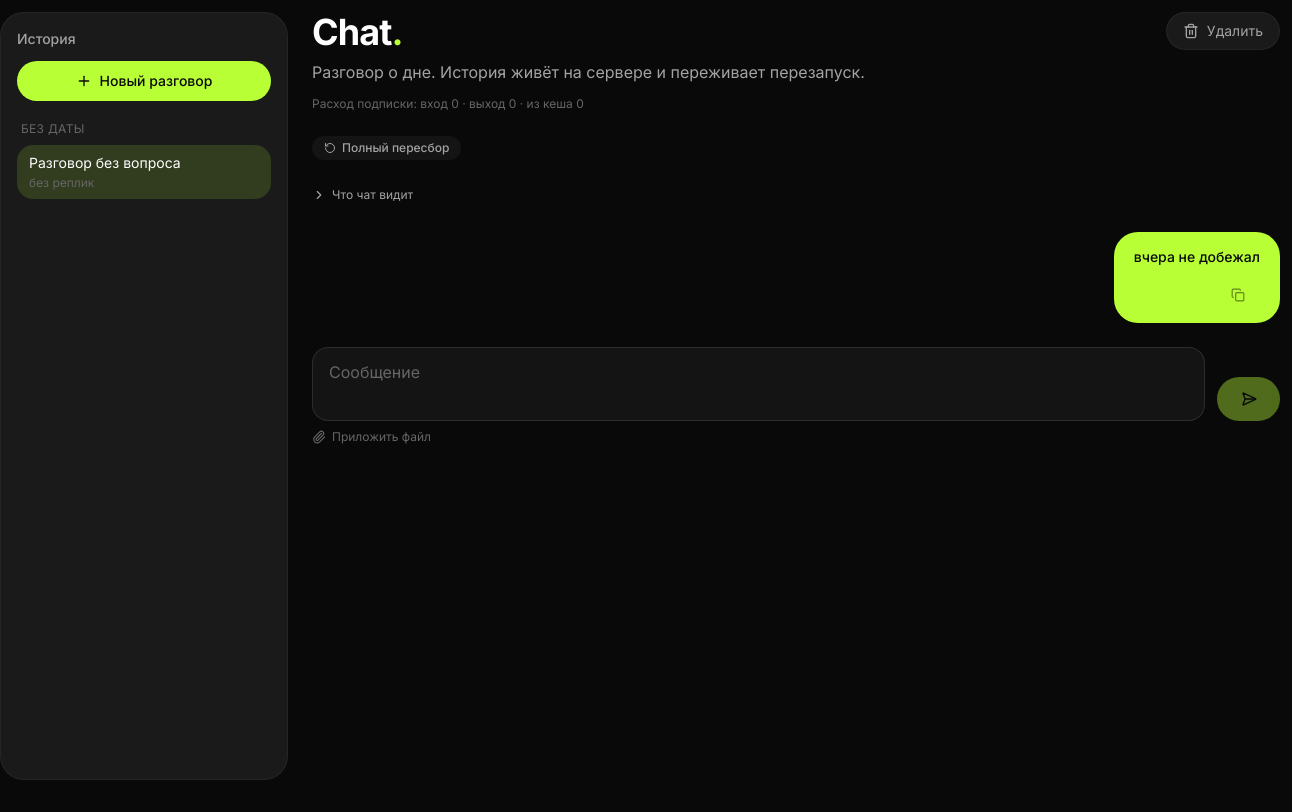
Test case: a turn in flight, on both shells › names what the model is doing before it has said a word — on the wide screen
This screenshot has width=1292, height=812.
Expected: the text "вчера не добежал" is shown, [1134,248,1260,265]
In the text box labelled "Сообщение": (759, 384) [312,347,1205,421], type "как я спал?"
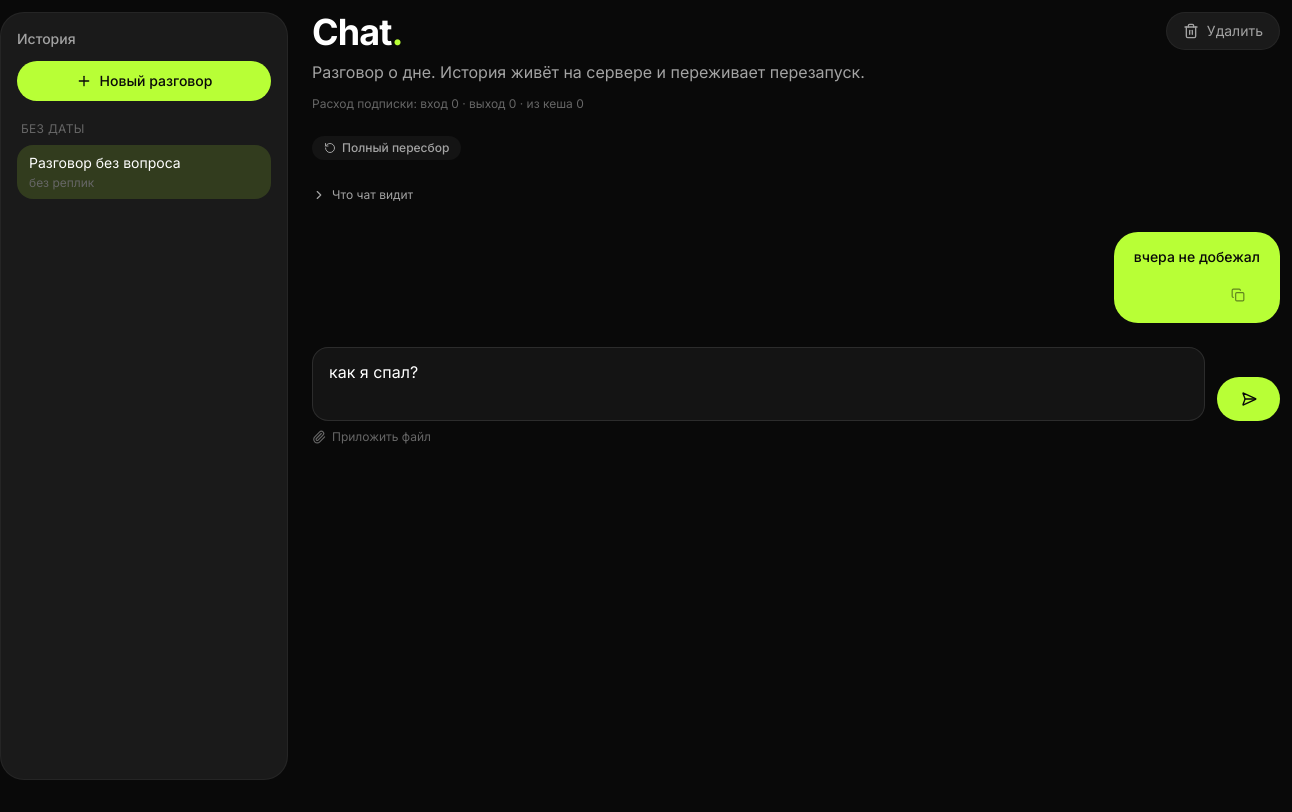
Click the button named "Отправить": (1249, 399) [1217,377,1280,421]
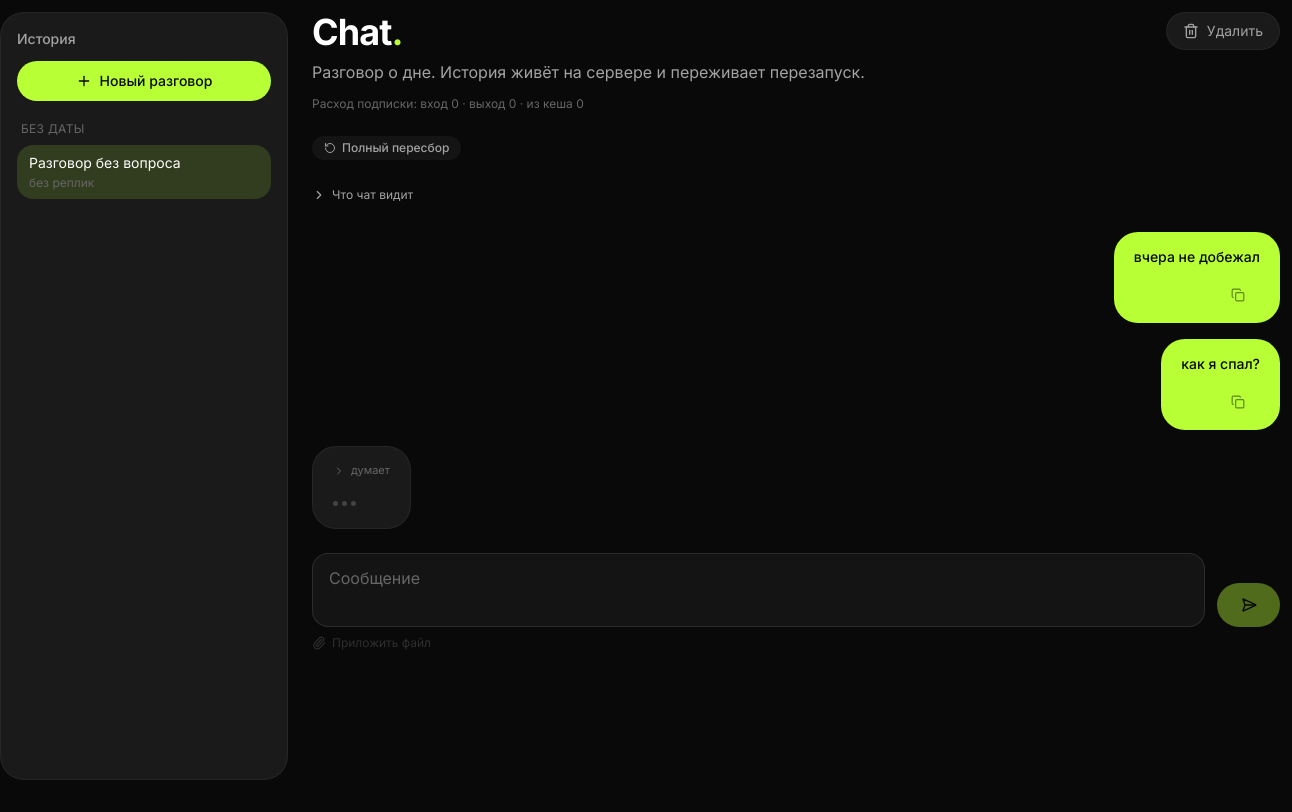
Result: the message with test id "turn-waiting" is shown at [333,501,356,506]
Result: the button with test id "thinking-toggle" reads "думает" at [333,462,390,480]
